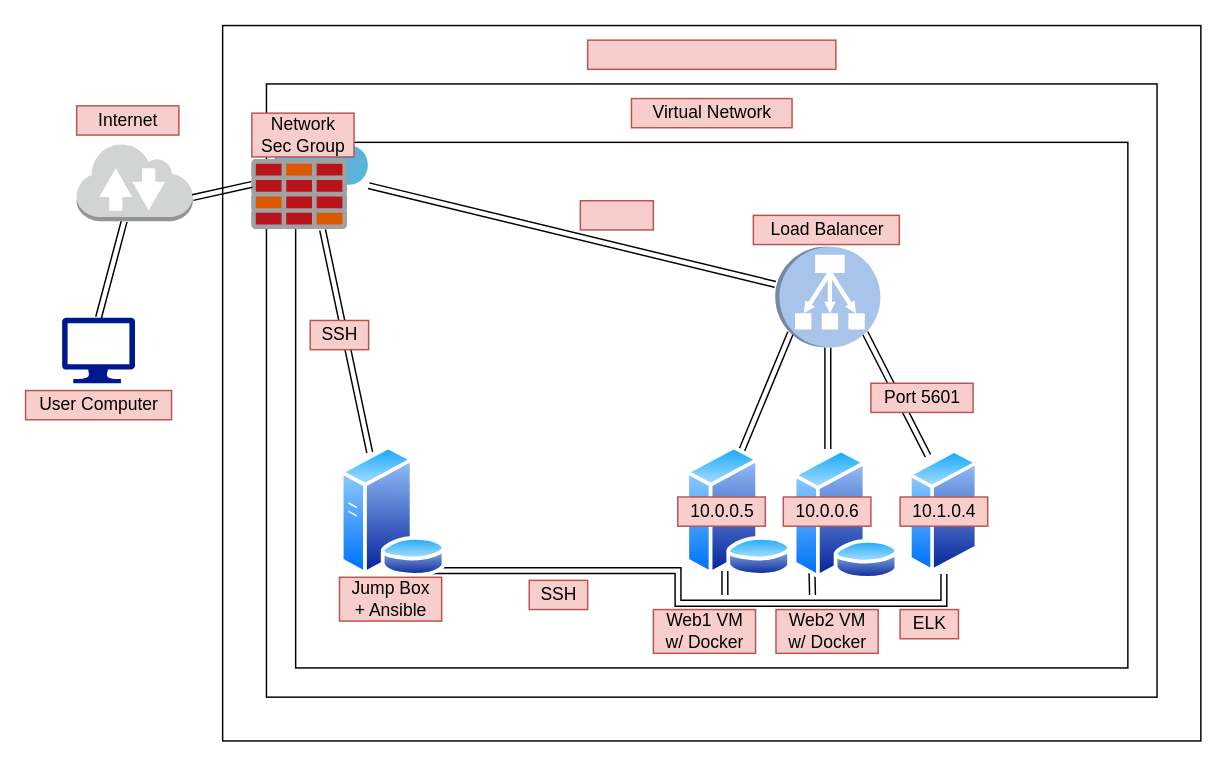
Image size: 1226x767. Some labels were removed from this diagram. The shapes that lost their labels are listed below. From the top down, each one's centre as x and y in pixels, then its label:
(711,54): RedTeam Resource Group
(616,214): HTTP
